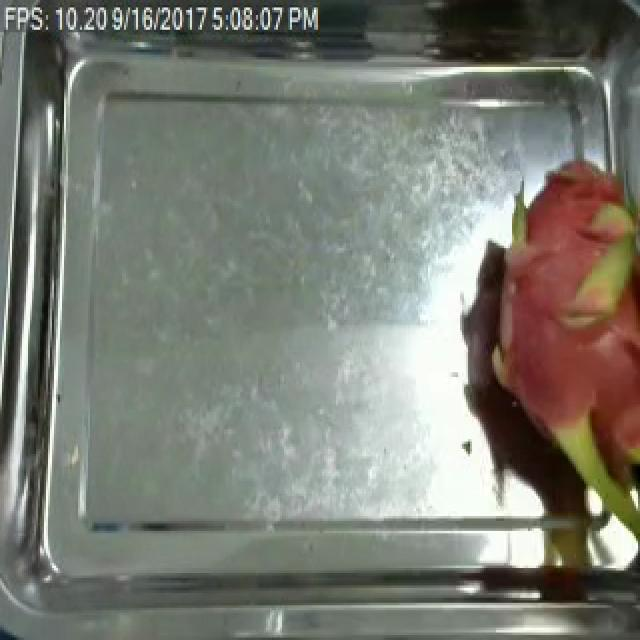fruit: (446, 176, 640, 583)
